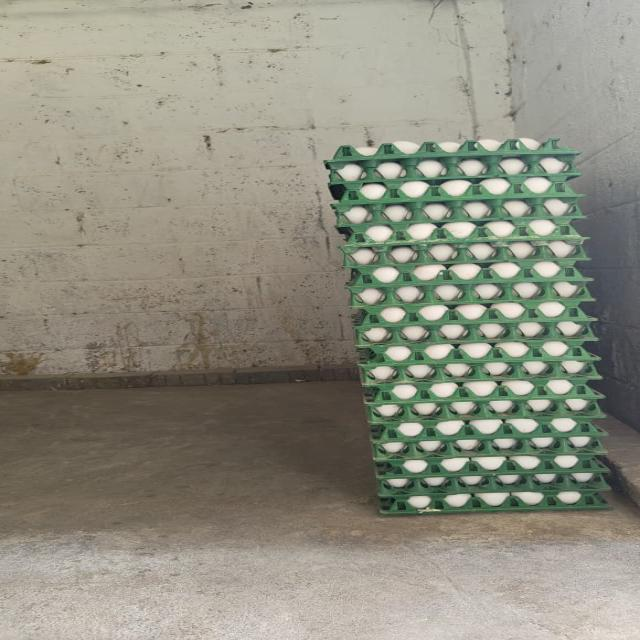egg_tray: (372, 418, 607, 508), (359, 341, 600, 421), (372, 418, 607, 496), (351, 276, 593, 346), (345, 260, 590, 323), (372, 415, 604, 481), (359, 341, 599, 399), (376, 454, 608, 512), (342, 235, 588, 286), (326, 138, 578, 186), (348, 268, 591, 317), (359, 341, 599, 390), (334, 197, 583, 244), (348, 276, 593, 323), (353, 296, 590, 344), (346, 261, 591, 307), (346, 260, 590, 306), (344, 240, 586, 284), (376, 450, 607, 496), (365, 376, 600, 421), (330, 154, 579, 196), (364, 378, 600, 422), (365, 378, 601, 422), (376, 452, 607, 495), (371, 418, 605, 460), (353, 306, 595, 346), (332, 190, 584, 228), (333, 176, 580, 214), (365, 362, 599, 402), (360, 340, 598, 379), (371, 417, 606, 456), (375, 450, 607, 488), (342, 218, 584, 254), (343, 238, 588, 273), (331, 168, 579, 202), (378, 472, 609, 508), (326, 138, 580, 168), (381, 480, 609, 513), (365, 372, 599, 404), (356, 318, 596, 348), (326, 138, 580, 166), (381, 481, 609, 510), (349, 258, 579, 286), (374, 436, 605, 462), (374, 436, 605, 460), (378, 472, 609, 496), (380, 490, 609, 514), (367, 368, 387, 381), (535, 304, 555, 316), (561, 492, 577, 504), (543, 362, 562, 372), (385, 311, 402, 322), (413, 497, 428, 508), (501, 474, 519, 483), (442, 366, 461, 374), (501, 158, 521, 164), (550, 385, 567, 392), (470, 385, 489, 391), (390, 478, 404, 486), (442, 366, 460, 372), (520, 287, 530, 296), (401, 388, 412, 396), (434, 388, 450, 393), (460, 364, 470, 372), (436, 248, 446, 255), (477, 366, 490, 371), (572, 362, 582, 368), (559, 270, 567, 277), (570, 192, 576, 200), (534, 402, 542, 407), (522, 363, 527, 370), (401, 346, 405, 354), (542, 362, 547, 368), (516, 246, 523, 250), (527, 251, 532, 256), (576, 362, 580, 368), (577, 475, 585, 478), (366, 300, 374, 303), (413, 206, 419, 210), (545, 158, 552, 161), (522, 294, 532, 296), (436, 258, 446, 260), (434, 480, 438, 485), (532, 360, 538, 363), (512, 316, 520, 318), (461, 364, 465, 368), (511, 502, 515, 506), (583, 476, 586, 481), (532, 360, 538, 362), (426, 440, 429, 444), (596, 501, 600, 504), (372, 425, 375, 429), (484, 368, 489, 370), (547, 315, 552, 317), (529, 310, 534, 312), (529, 372, 534, 374), (573, 370, 578, 372), (562, 192, 565, 195), (545, 207, 548, 210), (467, 318, 474, 319), (542, 506, 545, 508), (460, 428, 463, 430), (572, 230, 574, 233), (410, 300, 414, 301), (512, 215, 516, 216), (510, 367, 513, 368), (372, 290, 375, 291), (389, 320, 392, 321), (553, 369, 556, 370), (468, 367, 469, 369), (367, 344, 368, 346), (565, 229, 566, 231), (406, 309, 407, 310), (574, 507, 575, 508), (488, 296, 493, 296), (523, 259, 525, 259), (557, 256, 563, 256), (534, 405, 536, 405), (528, 369, 530, 369), (565, 365, 566, 365), (437, 345, 438, 345), (444, 429, 446, 429), (421, 345, 422, 345), (496, 368, 498, 368), (471, 348, 472, 348), (389, 308, 393, 308), (400, 441, 400, 443), (432, 368, 432, 368), (487, 290, 488, 290), (388, 312, 388, 312), (405, 374, 406, 374), (568, 210, 570, 210)
